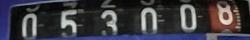digits: (59, 9, 78, 40), (179, 3, 197, 34), (140, 7, 158, 35), (21, 11, 38, 40), (101, 10, 117, 37), (218, 0, 233, 26)
